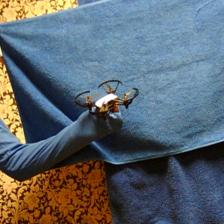drone: (74, 80, 140, 116)
